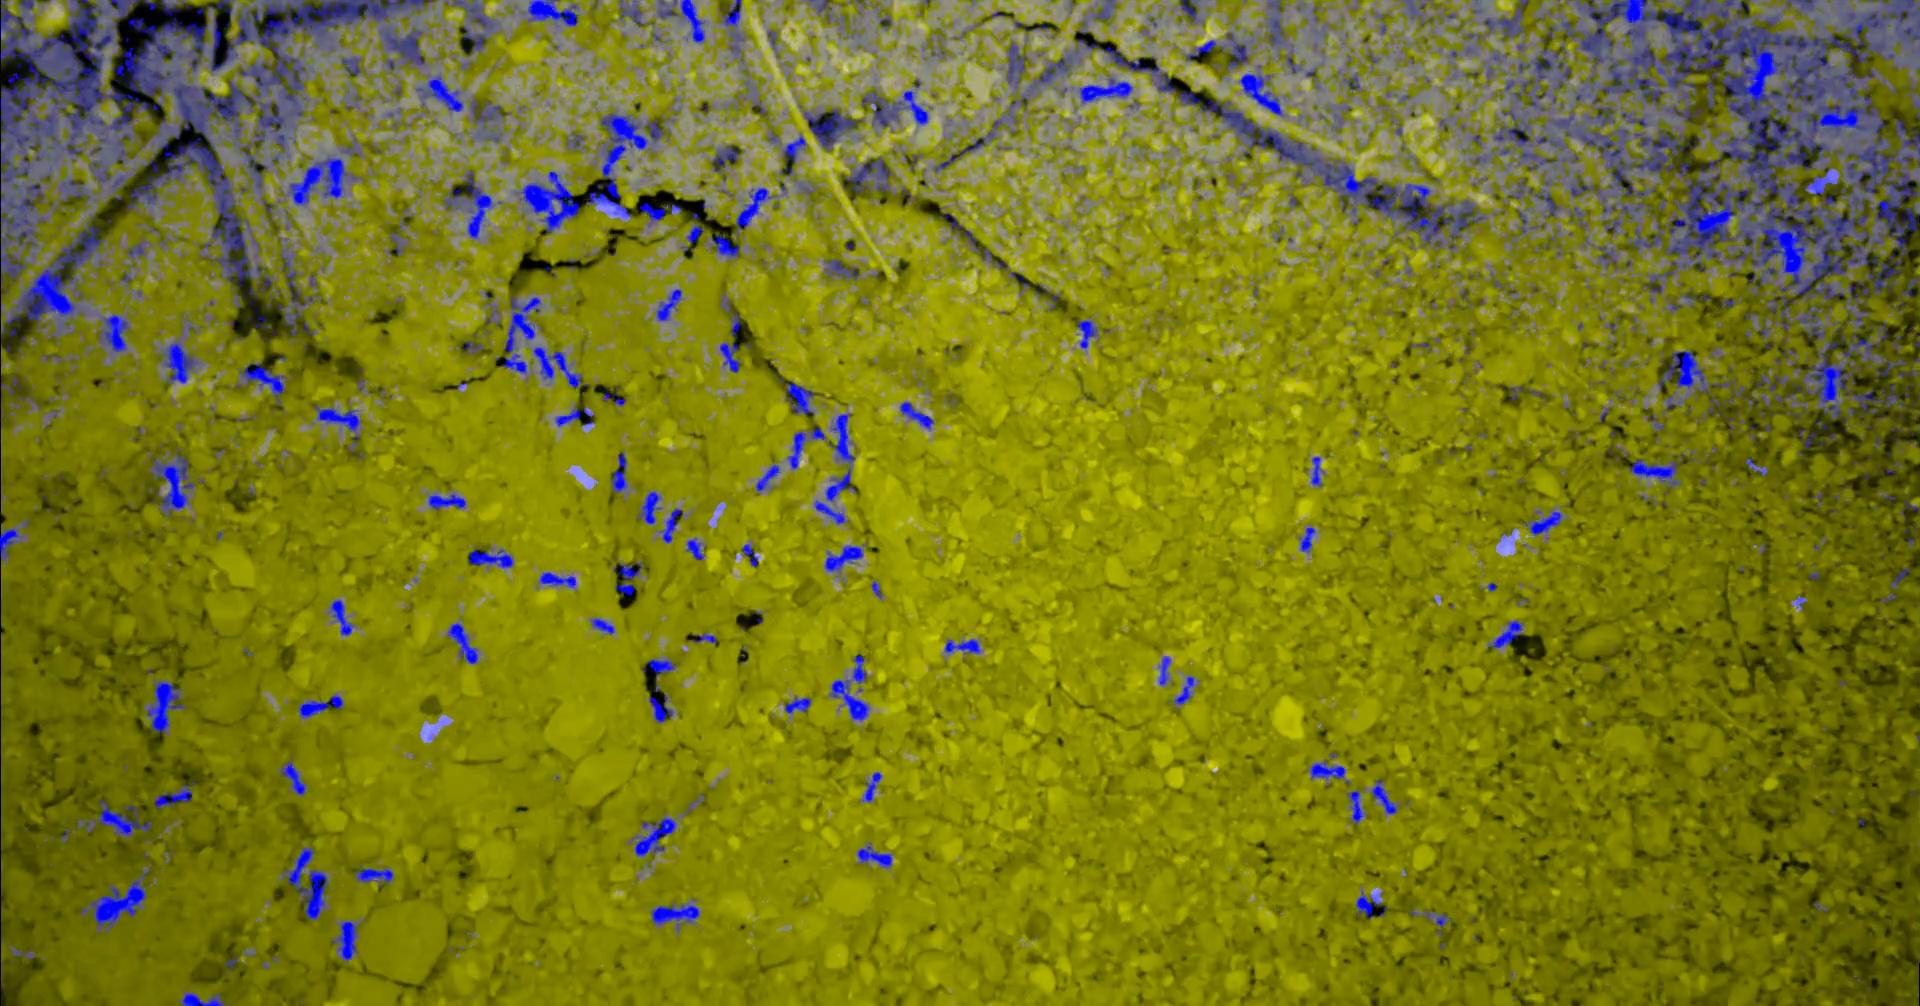ant: (938, 212, 1007, 268), (933, 119, 1001, 171), (1101, 46, 1175, 93), (277, 250, 317, 335), (1751, 373, 1810, 423), (76, 799, 151, 836), (829, 654, 869, 720), (861, 89, 928, 127), (803, 108, 862, 150), (1657, 351, 1709, 395), (532, 345, 587, 387), (1238, 65, 1283, 116), (452, 0, 495, 52), (143, 680, 185, 733), (237, 362, 287, 405), (1507, 177, 1559, 217), (1627, 452, 1685, 488), (657, 0, 703, 43), (312, 404, 361, 445), (735, 187, 773, 238), (378, 25, 424, 65), (415, 74, 463, 111), (157, 340, 198, 384), (632, 815, 676, 856), (787, 423, 825, 469), (844, 156, 890, 192), (1705, 385, 1757, 415), (1483, 0, 1528, 36), (1030, 55, 1072, 90), (717, 0, 744, 53), (650, 903, 698, 932), (1079, 77, 1131, 103), (1797, 302, 1831, 340), (785, 380, 822, 414), (527, 0, 577, 25), (98, 312, 130, 352), (447, 622, 477, 663), (330, 920, 359, 962), (469, 99, 509, 128), (1887, 277, 1919, 314), (1570, 171, 1606, 202), (152, 781, 196, 807), (298, 694, 343, 718), (824, 545, 863, 572), (612, 561, 643, 594), (1487, 620, 1523, 648), (1370, 779, 1398, 814), (646, 658, 676, 691), (899, 401, 933, 429), (1523, 511, 1562, 535), (279, 760, 306, 795), (1309, 760, 1345, 786), (1006, 41, 1026, 86), (354, 862, 392, 887), (329, 600, 354, 635), (637, 201, 681, 221), (618, 0, 653, 25), (857, 842, 891, 868), (1185, 39, 1224, 61), (469, 547, 513, 567), (1225, 32, 1248, 69), (636, 492, 662, 525), (0, 523, 22, 561), (659, 507, 682, 542), (711, 144, 739, 171), (554, 406, 594, 426), (657, 288, 681, 320), (720, 298, 740, 335), (1355, 890, 1382, 918), (1403, 0, 1432, 25), (1168, 674, 1194, 704), (1346, 789, 1368, 823), (58, 178, 90, 201), (648, 694, 673, 721), (610, 452, 627, 492), (179, 991, 229, 1005), (1267, 0, 1283, 44), (1423, 909, 1450, 935), (1517, 210, 1545, 234), (825, 259, 858, 279), (782, 133, 805, 163), (719, 342, 740, 372), (756, 464, 778, 492), (710, 235, 739, 257), (1076, 319, 1097, 348), (427, 493, 465, 509), (861, 771, 881, 801), (1008, 93, 1029, 122), (538, 572, 575, 587), (943, 639, 980, 654), (686, 212, 703, 243), (808, 0, 830, 22), (1178, 0, 1199, 23), (1597, 245, 1617, 269), (1298, 527, 1316, 553), (1785, 0, 1817, 14), (783, 696, 810, 713), (684, 537, 705, 559), (1906, 84, 1919, 118), (1743, 457, 1768, 475), (1095, 0, 1115, 20), (124, 240, 146, 259), (1793, 428, 1815, 447), (1890, 567, 1909, 588), (1622, 111, 1648, 126), (742, 542, 758, 567), (590, 617, 615, 634), (1310, 456, 1323, 486), (9, 944, 34, 959), (0, 376, 22, 394), (1570, 206, 1586, 229), (342, 56, 361, 75), (1897, 362, 1919, 379), (1680, 288, 1710, 300), (1646, 412, 1663, 431), (1158, 655, 1170, 685), (262, 198, 276, 221), (389, 232, 403, 255), (602, 391, 625, 405), (1284, 55, 1302, 72), (565, 132, 583, 150), (342, 137, 358, 155), (1603, 216, 1620, 232), (461, 340, 483, 353), (1343, 74, 1359, 91), (690, 633, 716, 643), (1076, 37, 1097, 48), (253, 315, 270, 328), (1509, 385, 1523, 399), (0, 746, 1, 832)
